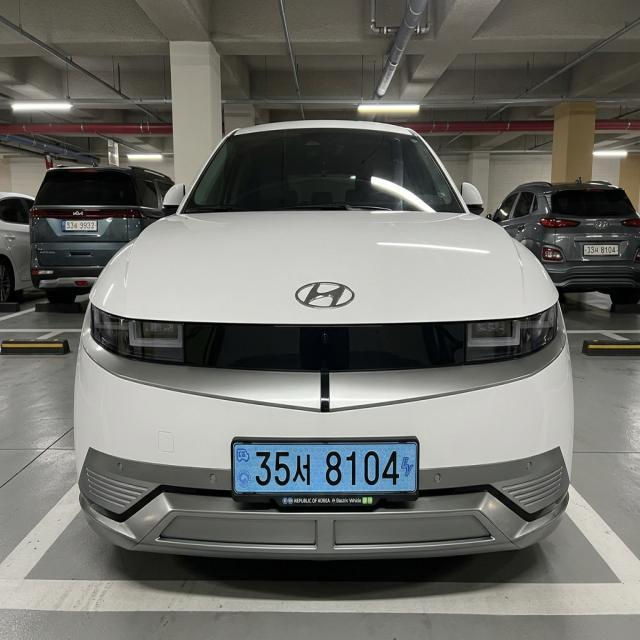car: (217, 418, 451, 529)
carev: (232, 442, 254, 507), (399, 441, 421, 501)
